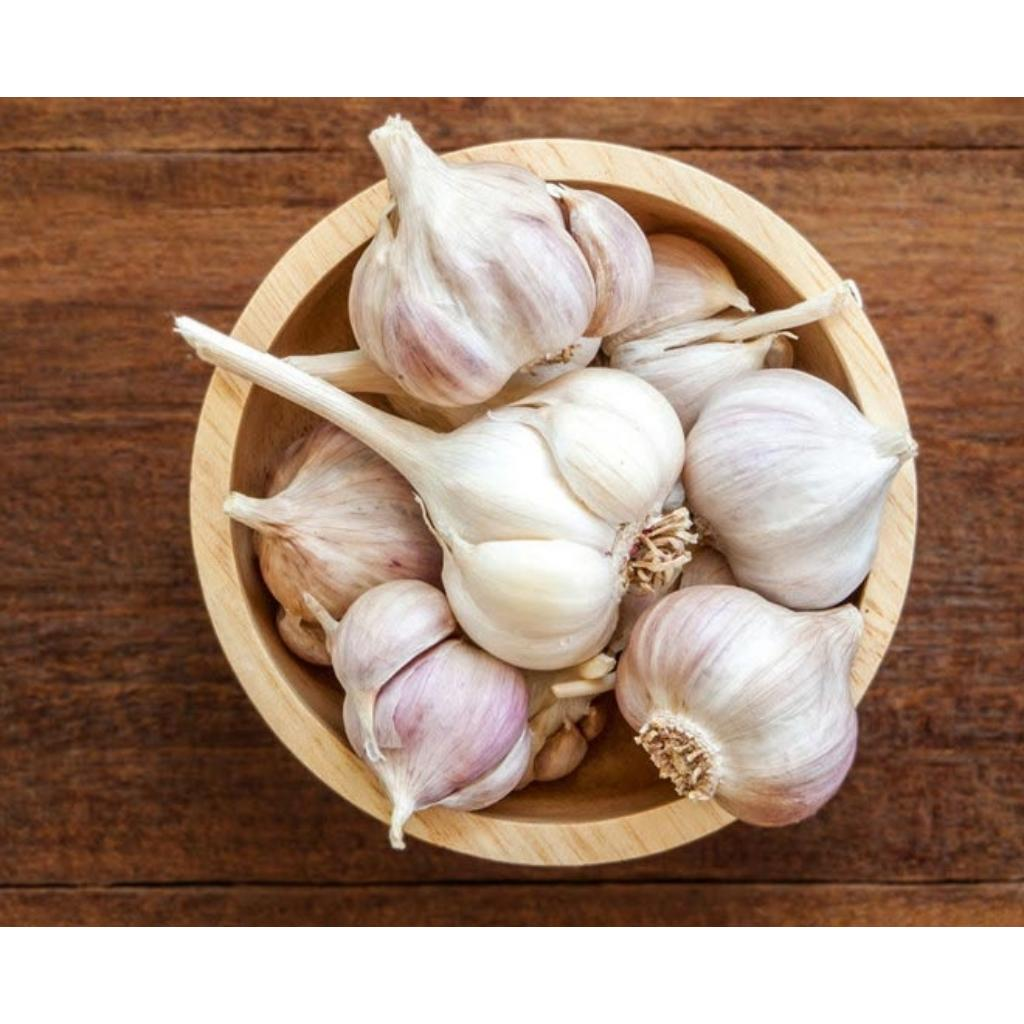garlic: (174, 316, 681, 666), (348, 114, 650, 404), (304, 578, 529, 845), (614, 584, 860, 823), (681, 369, 912, 606), (222, 421, 439, 662)
